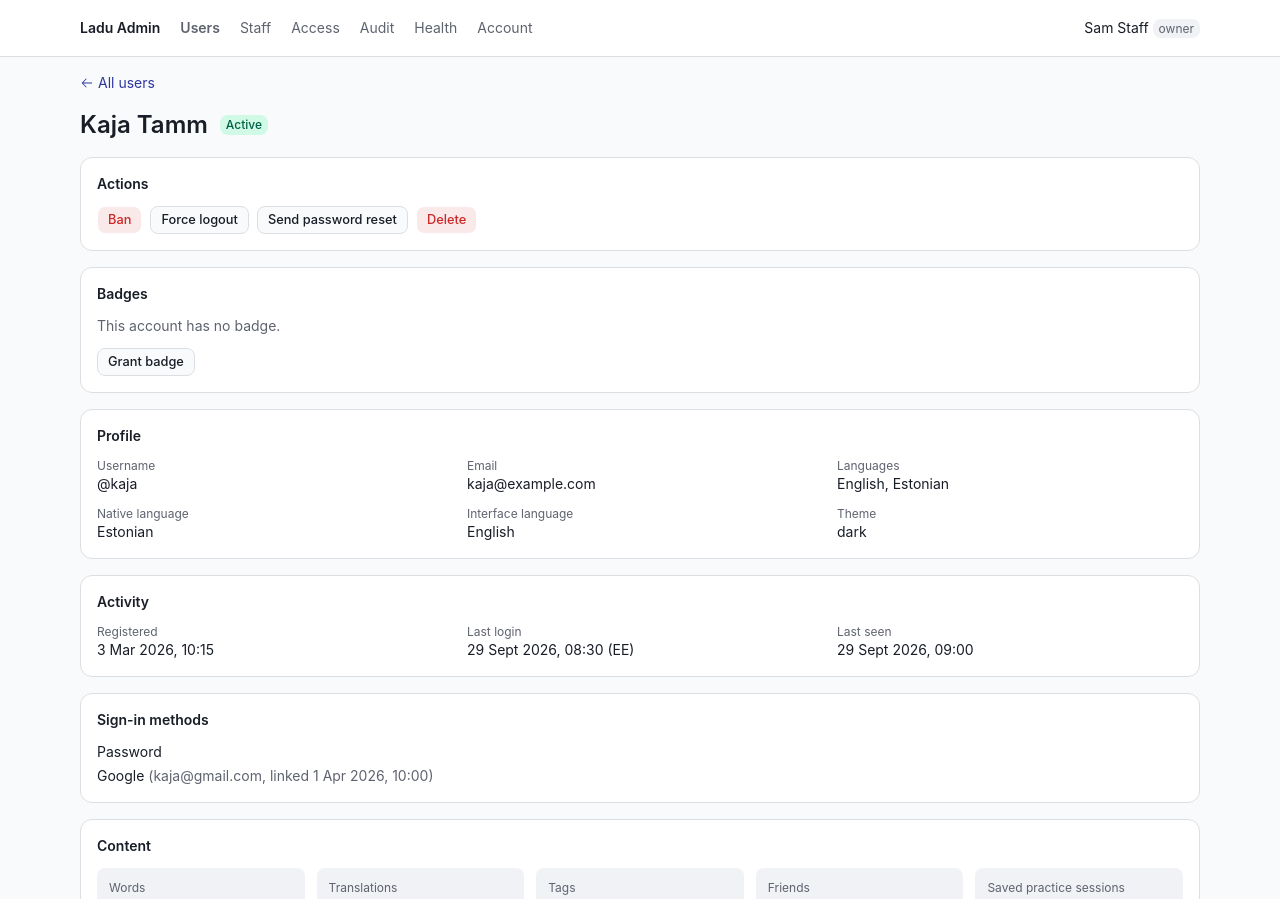
Scenario: grant › Cancel closes the dialog and sends nothing
The width and height of the screenshot is (1280, 899).
Expected: the heading "Kaja Tamm" is shown, [80, 109, 208, 141]
What coordinates should you click on to do the following:
click the button "Grant badge"
I would click on:
 (146, 362)
Its box is [97, 348, 195, 376].
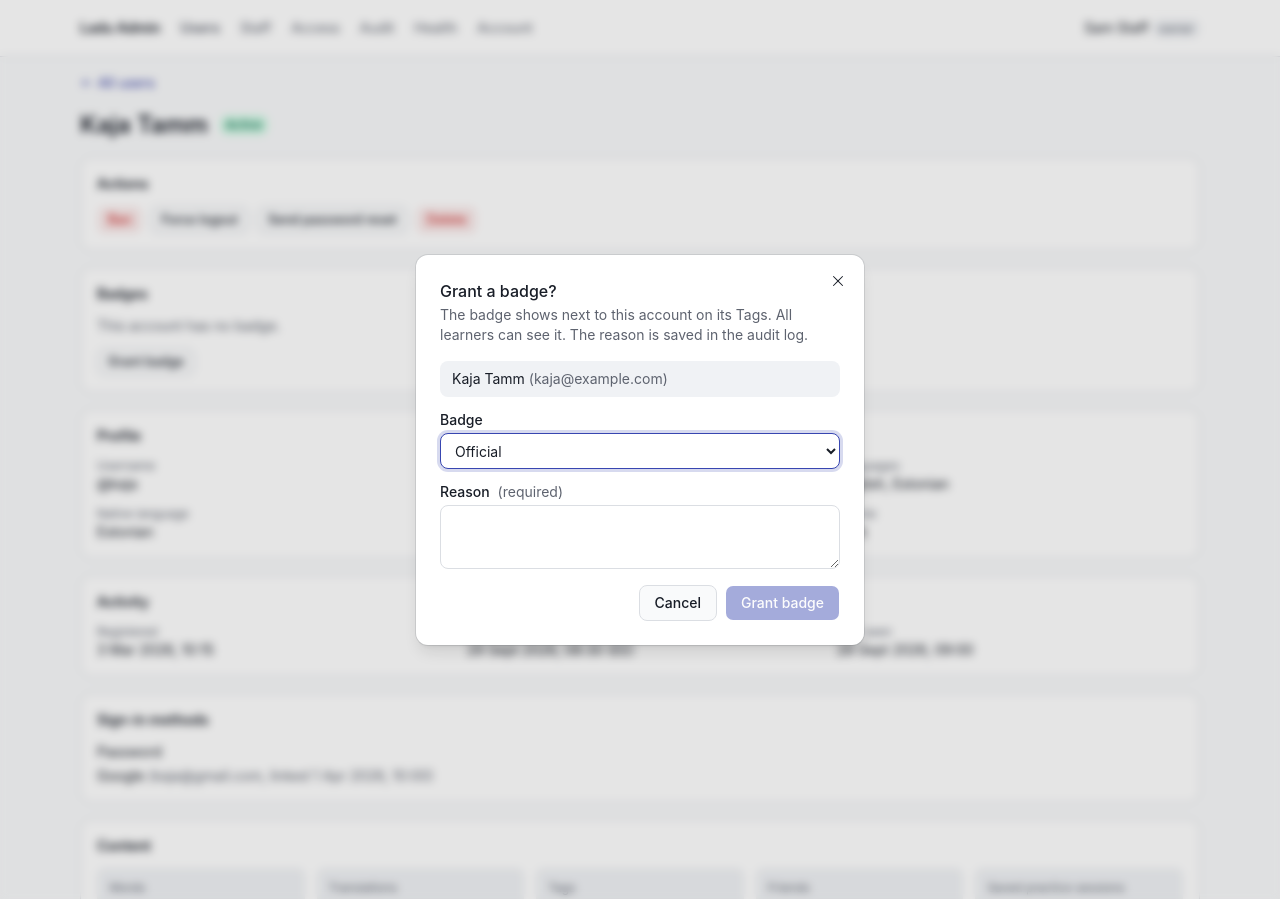
What coordinates should you click on to do the following:
click the button "Cancel"
I would click on:
 (678, 603)
Its box is [638, 585, 717, 621].
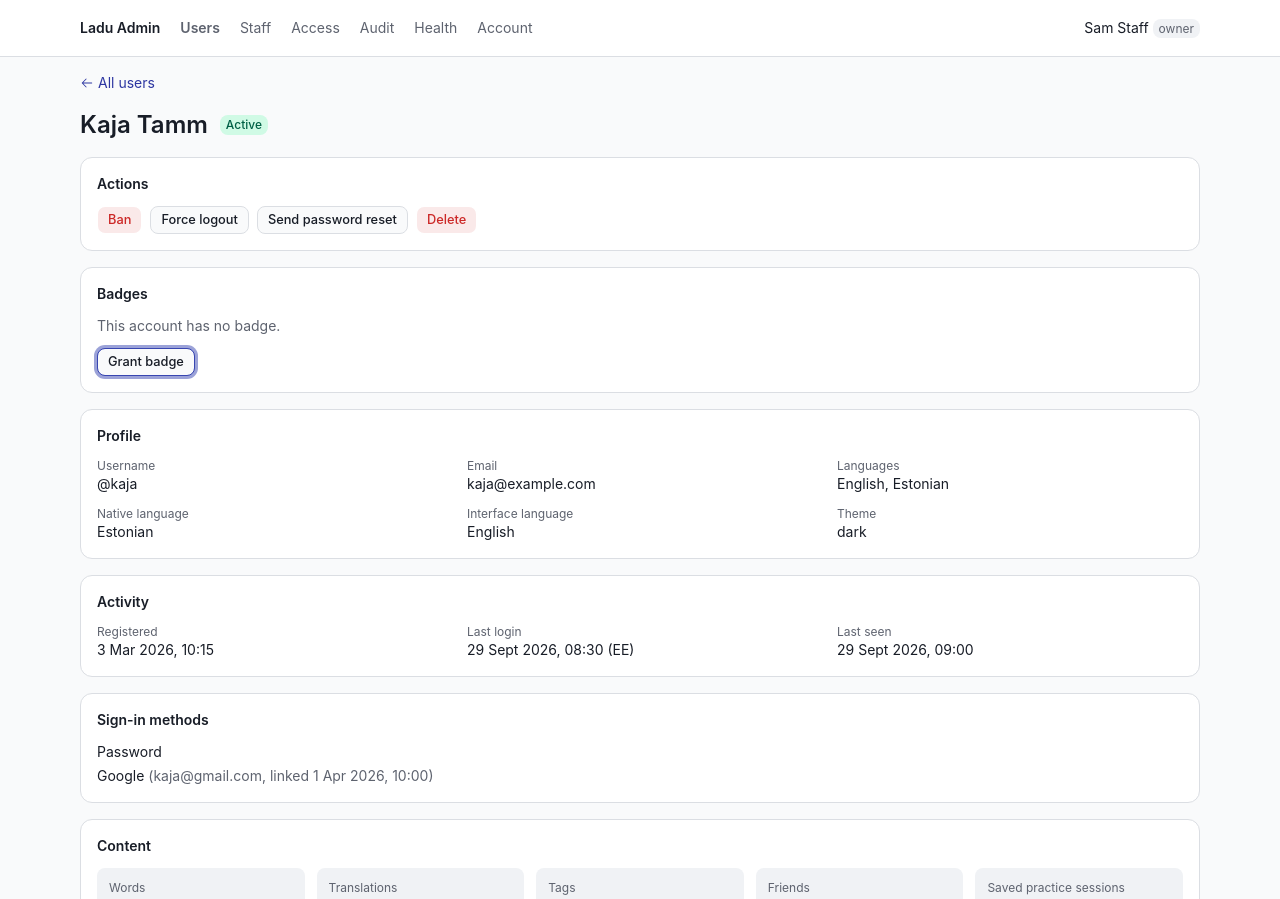
Result: the dialog is gone
